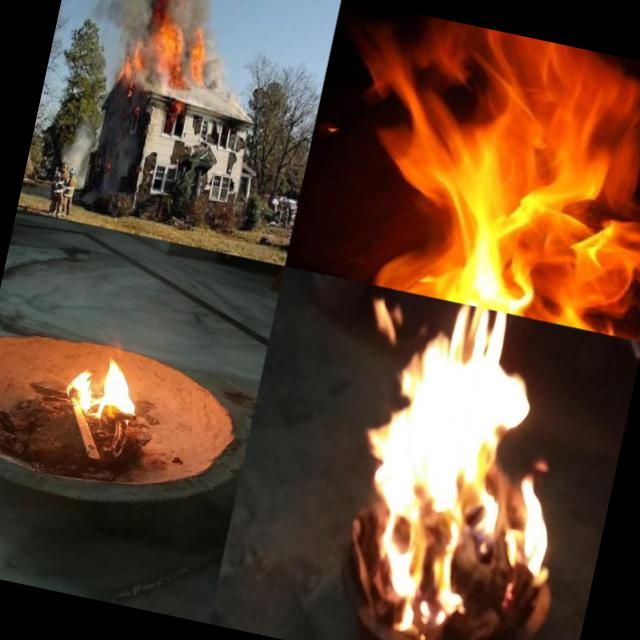fire: (303, 1, 640, 341), (319, 286, 602, 622), (55, 335, 156, 441), (118, 8, 212, 96)
smoke: (74, 0, 221, 22), (56, 116, 100, 170), (200, 47, 237, 94), (84, 0, 132, 36)
